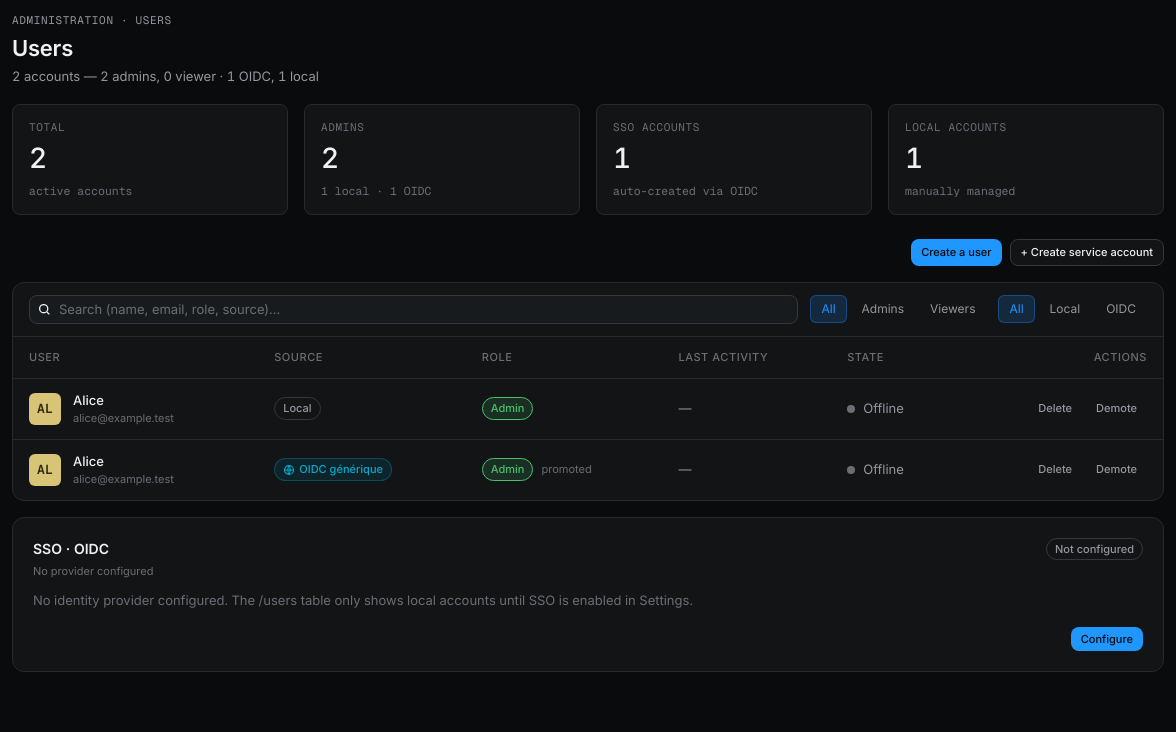
Test: /utilisateurs — filters › source chips narrow to local / oidc
Click the button "OIDC": [1121, 309] box 1095,295 -> 1147,323
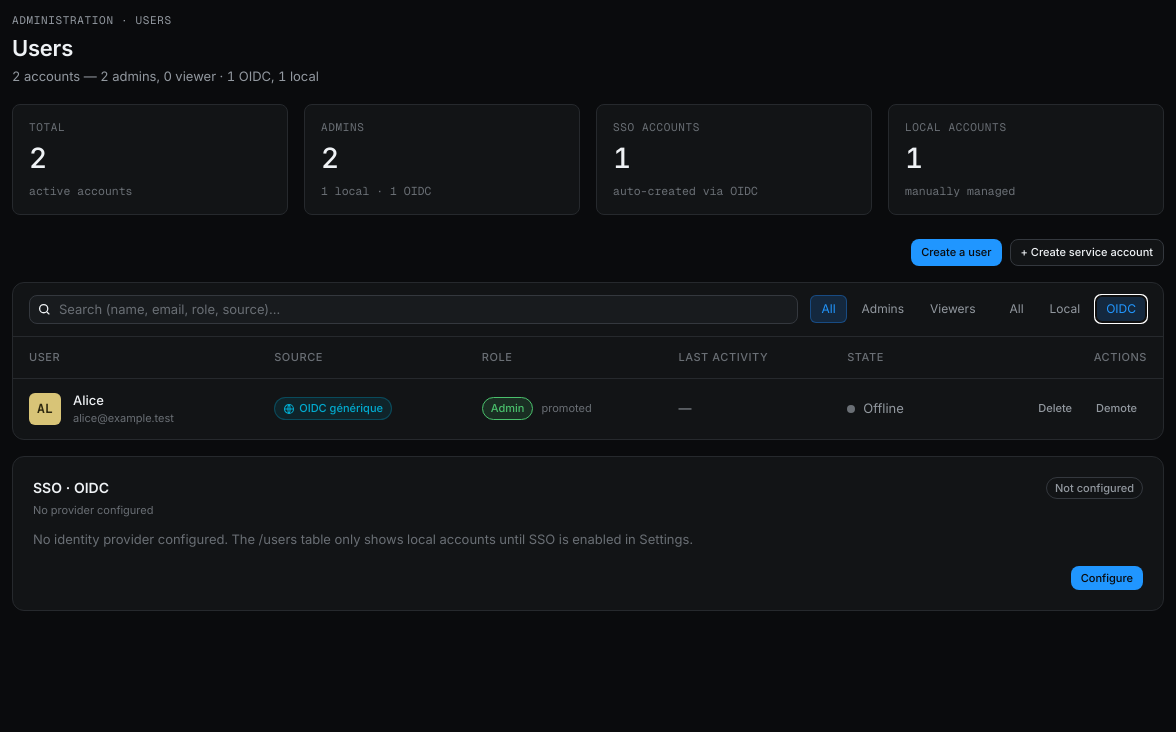
expect the row with test id "user-row-u2" is shown: met, box 13,378 -> 1163,439
expect the row with test id "user-row-u1" is gone: met
